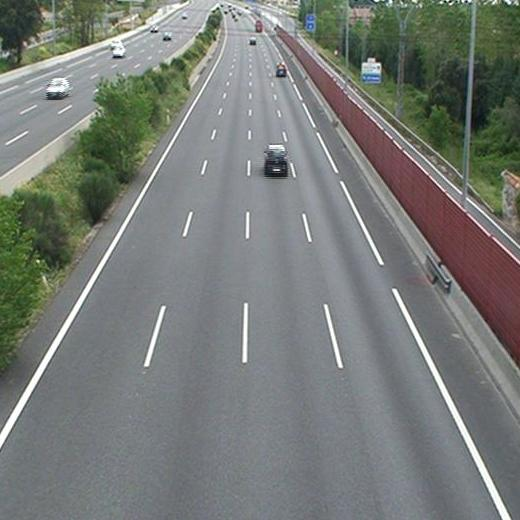car: (265, 145, 287, 171)
van: (276, 62, 287, 77)
